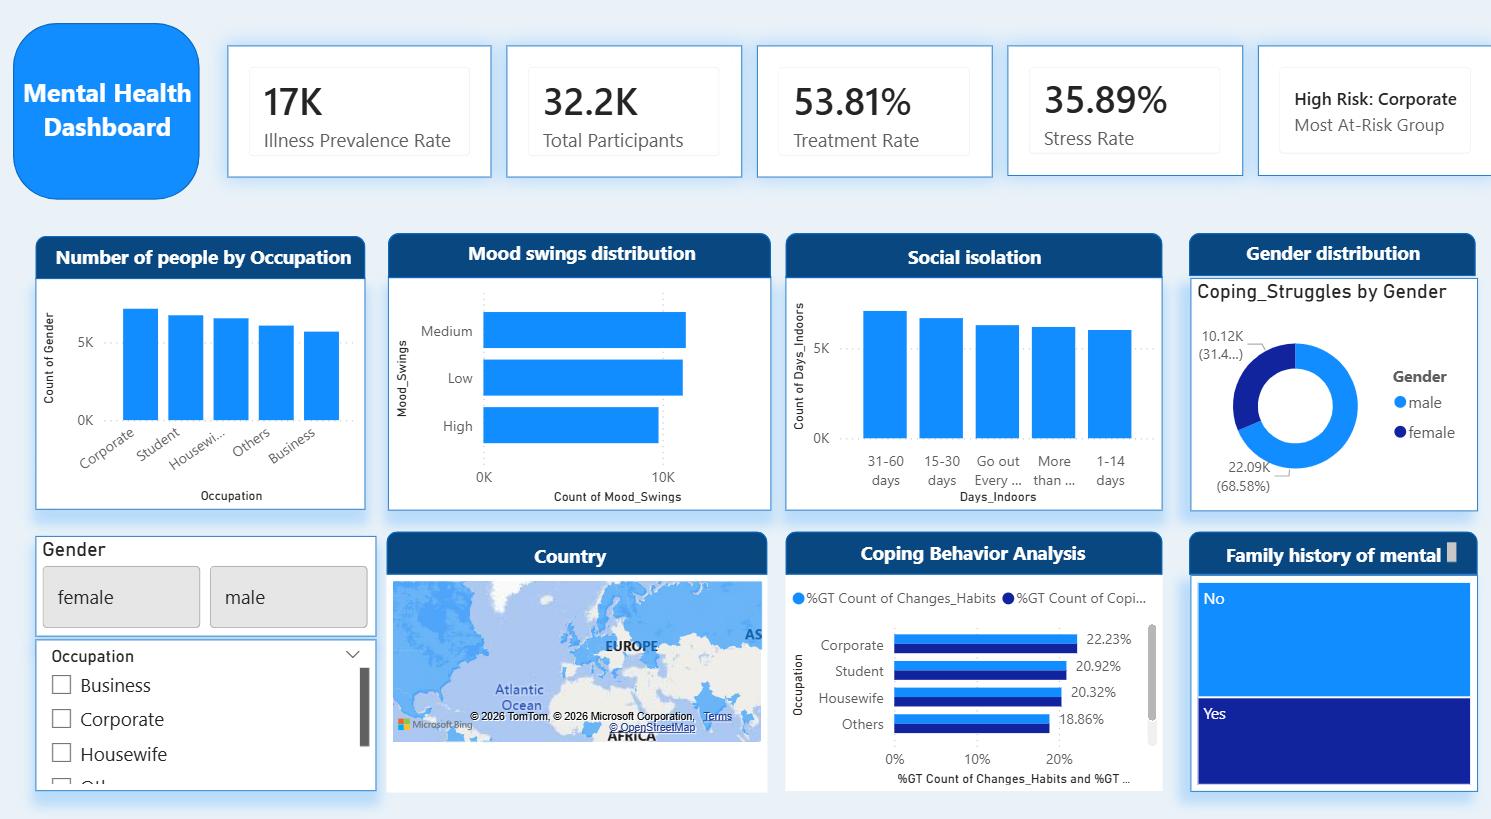

The page's visual inventory and layout, read from the dashboard file:
{"tool":"powerbi","page":{"name":"Page ١","canvas":[1280,720],"ordinal":0},"visuals":[{"type":"cardVisual","fields":{"Data":["CountNonNull(part-00000-1ad0137b-d3b9-463a-8236-82192a98fad4-c000.Gender)"]},"box":[441.8,47.1,199.9,112],"z":0},{"type":"donutChart","title":"Coping_Struggles by Gender","fields":{"Y":["CountNonNull(Data.Coping_Struggles)"],"Category":["Data.Gender"]},"box":[1022,244,244,198],"z":2000},{"type":"clusteredColumnChart","fields":{"Category":["Data.Occupation"],"Y":["CountNonNull(Data.Gender)"]},"box":[41.7,245,280,196.7],"z":3000},{"type":"clusteredBarChart","fields":{"Category":["Data.Mood_Swings"],"Y":["CountNonNull(Data.Mood_Swings)"]},"box":[341.7,243.3,325,198.3],"z":4000},{"type":"clusteredColumnChart","fields":{"Category":["Data.Days_Indoors"],"Y":["CountNonNull(Data.Days_Indoors)"]},"box":[678.3,243.3,320,198.3],"z":5000},{"type":"treemap","fields":{"Group":["Data.family_history"],"Values":["CountNonNull(Data.Gender)"]},"box":[1022,496,244,184],"z":6000},{"type":"advancedSlicerVisual","fields":{"Values":["Data.Gender"]},"box":[43.3,459.6,289,85.3],"z":7000},{"type":"slicer","fields":{"Values":["Data.Occupation"]},"box":[42,551.3,289,128.6],"z":8000},{"type":"cardVisual","fields":{"Data":["Data.عدد_المحتمل_مرض"]},"box":[205,47.1,224.1,112],"z":9000},{"type":"shape","box":[341.7,206.7,325,38.3],"z":10000},{"type":"textbox","box":[383.3,206.7,245,51.7],"z":11000},{"type":"shape","box":[678.3,206.7,320,38.3],"z":12000},{"type":"shape","box":[1021.7,460,245,36.7],"z":13000},{"type":"shape","box":[1021.7,206.7,243.3,36.7],"z":14000},{"type":"shape","box":[41.7,208.3,280,36.7],"z":15000},{"type":"shape","box":[340,460,323.3,36.7],"z":16000},{"type":"shape","box":[678.3,460,320,36.7],"z":17000},{"type":"textbox","box":[52.2,210.1,264.8,35.7],"z":18000},{"type":"textbox","box":[760,210,158.3,150],"z":19000},{"type":"textbox","box":[1065,206.7,158.3,150],"z":20000},{"type":"textbox","box":[411.2,463.5,169.3,31.8],"z":21000},{"type":"textbox","box":[1042.8,463.5,210.1,33.1],"z":22000},{"type":"textbox","box":[718.1,460.9,239.4,35.7],"z":23000},{"type":"shape","box":[29.3,36.9,159.2,150.2],"z":24000},{"type":"textbox","box":[7.6,66.2,203.7,72.6],"z":25000},{"type":"filledMap","fields":{"Category":["Data.Country"]},"box":[339.9,496.6,323.4,184.6],"z":26000},{"type":"cardVisual","fields":{"Data":["Data.Treatment Rate"]},"box":[654.4,47.1,199.9,112],"z":27000},{"type":"cardVisual","fields":{"Data":["Data.Most At-Risk Group"]},"box":[1079.7,47.1,199.9,110.8],"z":28000},{"type":"cardVisual","fields":{"Data":["Data.Stress Rate"]},"box":[867.1,47.1,199.9,110.8],"z":29000},{"type":"clusteredBarChart","fields":{"Category":["Data.Occupation"],"Y":["CountNonNull(Data.Changes_Habits)","CountNonNull(Data.Coping_Struggles)"]},"box":[678,497,320,183],"z":30000}]}

Visuals, with their boxes in screenshot pixels (x1, y1, x2, y2), scaled from the page's 1280x720 canvas onto the 1491x819 screenshot:
cardVisual - CountNonNull(part-00000-1ad0137b-d3b9-463a-8236-82192a98fad4-c000.Gender): locate(515, 54, 747, 181)
"Coping_Struggles by Gender" donutChart: locate(1190, 278, 1475, 503)
clusteredColumnChart - Data.Occupation x CountNonNull(Data.Gender): locate(49, 279, 375, 502)
clusteredBarChart - Data.Mood_Swings x CountNonNull(Data.Mood_Swings): locate(398, 277, 777, 502)
clusteredColumnChart - Data.Days_Indoors x CountNonNull(Data.Days_Indoors): locate(790, 277, 1163, 502)
treemap - Data.family_history x CountNonNull(Data.Gender): locate(1190, 564, 1475, 774)
advancedSlicerVisual - Data.Gender: locate(50, 523, 387, 620)
slicer - Data.Occupation: locate(49, 627, 386, 773)
cardVisual - Data.عدد_المحتمل_مرض: locate(239, 54, 500, 181)
shape: locate(398, 235, 777, 279)
textbox: locate(446, 235, 732, 294)
shape: locate(790, 235, 1163, 279)
shape: locate(1190, 523, 1476, 565)
shape: locate(1190, 235, 1474, 277)
shape: locate(49, 237, 375, 279)
shape: locate(396, 523, 773, 565)
shape: locate(790, 523, 1163, 565)
textbox: locate(61, 239, 369, 280)
textbox: locate(885, 239, 1070, 410)
textbox: locate(1241, 235, 1425, 406)
textbox: locate(479, 527, 676, 563)
textbox: locate(1215, 527, 1459, 565)
textbox: locate(836, 524, 1115, 565)
shape: locate(34, 42, 220, 213)
textbox: locate(9, 75, 246, 158)
filledMap - Data.Country: locate(396, 565, 773, 775)
cardVisual - Data.Treatment Rate: locate(762, 54, 995, 181)
cardVisual - Data.Most At-Risk Group: locate(1258, 54, 1490, 180)
cardVisual - Data.Stress Rate: locate(1010, 54, 1243, 180)
clusteredBarChart - Data.Occupation x CountNonNull(Data.Changes_Habits): locate(790, 565, 1163, 774)
